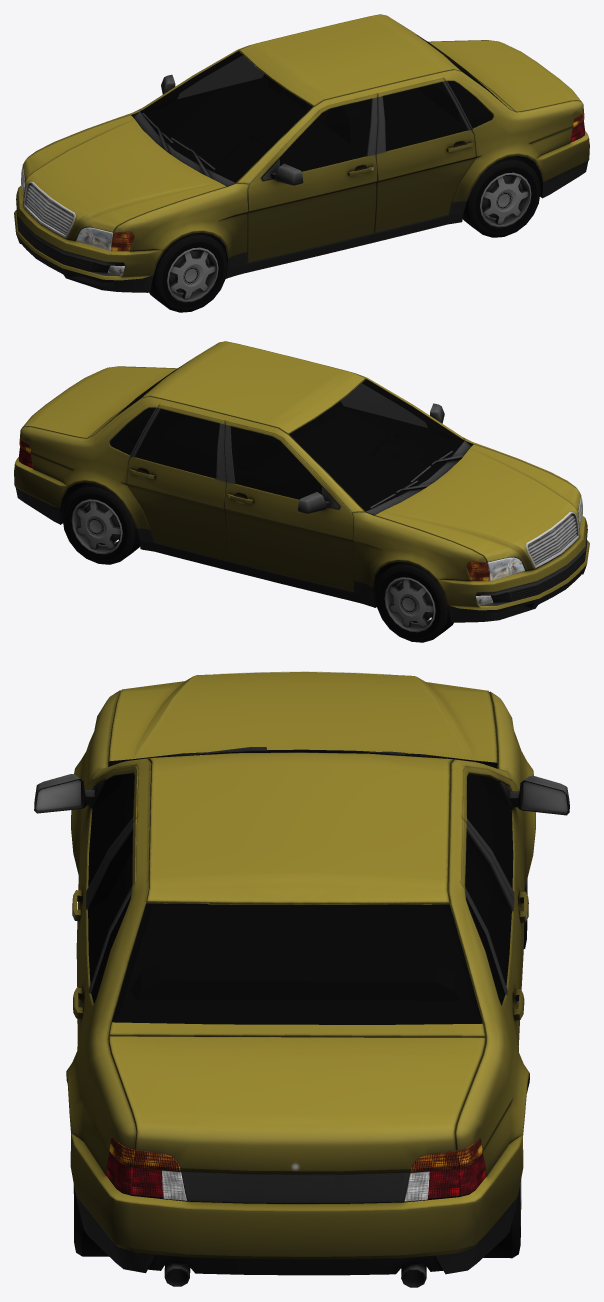
Rendered from sedan.glb.
The picture shows the model from 3 angles, top to bottom: view 1: azimuth 30°, elevation 25°; view 2: azimuth 150°, elevation 25°; view 3: azimuth 270°, elevation 25°; orthographic projection. The views are drawn at different scales.
Visible parts, largest first — view 1: Sedan Body, Wheel_A, Wheel_A001; view 2: Sedan Body, Wheel_A003, Wheel_A002; view 3: Sedan Body, Wheel_A003, Wheel_A001.
Boxes of the visible parts, left/top/right/bottom form: Sedan Body: left=14, top=14, right=589, bottom=292; Wheel_A: left=149, top=232, right=227, bottom=312; Wheel_A001: left=462, top=156, right=540, bottom=237; Sedan Body: left=14, top=341, right=589, bottom=622; Wheel_A003: left=62, top=482, right=139, bottom=564; Wheel_A002: left=375, top=561, right=453, bottom=642; Sedan Body: left=34, top=671, right=569, bottom=1287; Wheel_A003: left=483, top=1179, right=521, bottom=1258; Wheel_A001: left=73, top=1184, right=108, bottom=1256.
Size of the model in its own units: 5.44 by 1.67 by 2.42.
4 materials, 3 textured.
